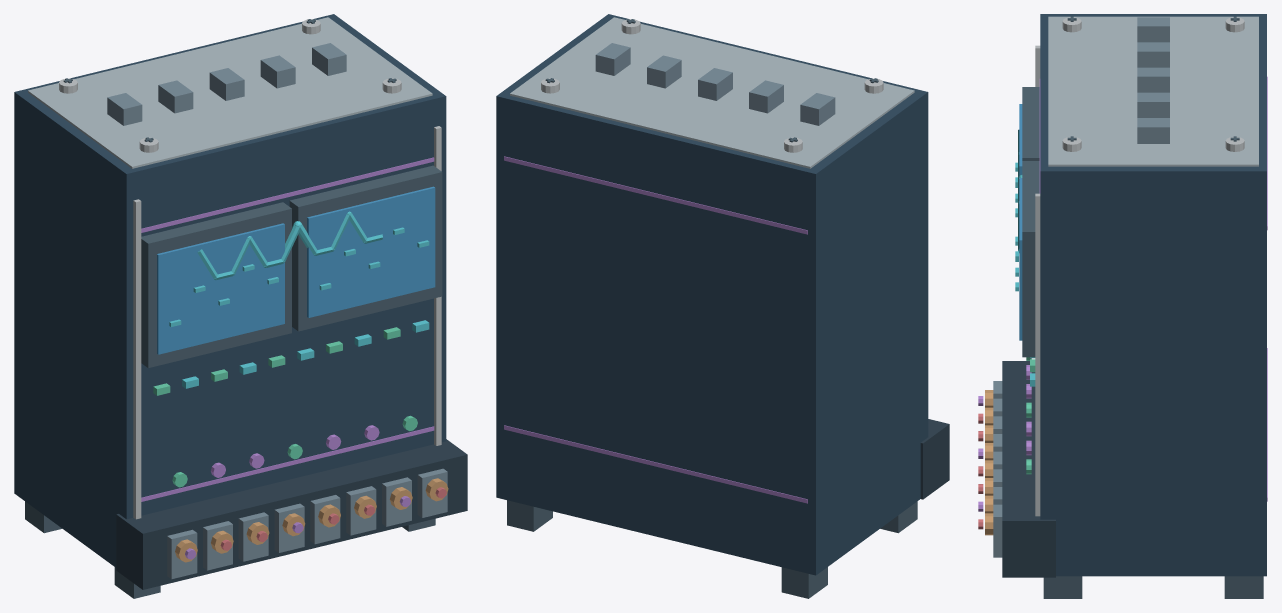
Rendered from 56_L76_PlatingWaveformProcessController.glb.
The picture shows the model from 3 angles, left to right: view 1: azimuth 30°, elevation 25°; view 2: azimuth 150°, elevation 25°; view 3: azimuth 270°, elevation 25°; orthographic projection.
Parts seen in each view (by area): view 1: PlatingWaveformProcessController_Node_0000, PlatingWaveformProcessController_Node_0007, PlatingWaveformProcessController_Node_0049, PlatingWaveformProcessController_Node_0032, PlatingWaveformProcessController_Node_0025, PlatingWaveformProcessController_Node_0024, PlatingWaveformProcessController_Node_0031, PlatingWaveformProcessController_Node_0005, PlatingWaveformProcessController_Node_0006, PlatingWaveformProcessController_Node_0021, PlatingWaveformProcessController_Node_0023, PlatingWaveformProcessController_Node_0071 (+12 smaller); view 2: PlatingWaveformProcessController_Node_0000, PlatingWaveformProcessController_Node_0007, PlatingWaveformProcessController_Node_0049, PlatingWaveformProcessController_Node_0020, PlatingWaveformProcessController_Node_0022, PlatingWaveformProcessController_Node_0045, PlatingWaveformProcessController_Node_0047, PlatingWaveformProcessController_Node_0084, PlatingWaveformProcessController_Node_0088, PlatingWaveformProcessController_Node_0085, PlatingWaveformProcessController_Node_0087, PlatingWaveformProcessController_Node_0086; view 3: PlatingWaveformProcessController_Node_0000, PlatingWaveformProcessController_Node_0007, PlatingWaveformProcessController_Node_0049, PlatingWaveformProcessController_Node_0031, PlatingWaveformProcessController_Node_0006, PlatingWaveformProcessController_Node_0024, PlatingWaveformProcessController_Node_0047, PlatingWaveformProcessController_Node_0048, PlatingWaveformProcessController_Node_0084, PlatingWaveformProcessController_Node_0085, PlatingWaveformProcessController_Node_0086, PlatingWaveformProcessController_Node_0087 (+3 smaller).
Boxes of the visible parts, x1,y1,x2,y2 form: PlatingWaveformProcessController_Node_0000: (14, 14, 446, 567); PlatingWaveformProcessController_Node_0007: (28, 17, 432, 168); PlatingWaveformProcessController_Node_0049: (116, 439, 467, 589); PlatingWaveformProcessController_Node_0032: (307, 186, 435, 317); PlatingWaveformProcessController_Node_0025: (157, 223, 284, 354); PlatingWaveformProcessController_Node_0024: (141, 202, 291, 368); PlatingWaveformProcessController_Node_0031: (289, 165, 442, 331); PlatingWaveformProcessController_Node_0005: (133, 199, 141, 519); PlatingWaveformProcessController_Node_0006: (434, 126, 441, 445); PlatingWaveformProcessController_Node_0021: (141, 426, 434, 501); PlatingWaveformProcessController_Node_0023: (141, 157, 434, 232); PlatingWaveformProcessController_Node_0071: (417, 468, 447, 517); PlatingWaveformProcessController_Node_0000: (496, 14, 928, 575); PlatingWaveformProcessController_Node_0007: (510, 17, 914, 168); PlatingWaveformProcessController_Node_0049: (920, 419, 949, 499); PlatingWaveformProcessController_Node_0020: (504, 425, 807, 503); PlatingWaveformProcessController_Node_0022: (504, 156, 807, 234); PlatingWaveformProcessController_Node_0045: (781, 567, 827, 598); PlatingWaveformProcessController_Node_0047: (507, 500, 552, 531); PlatingWaveformProcessController_Node_0084: (800, 93, 835, 125); PlatingWaveformProcessController_Node_0088: (595, 43, 630, 75); PlatingWaveformProcessController_Node_0085: (749, 80, 783, 113); PlatingWaveformProcessController_Node_0087: (647, 55, 681, 88); PlatingWaveformProcessController_Node_0086: (698, 68, 732, 100); PlatingWaveformProcessController_Node_0000: (1040, 14, 1266, 576); PlatingWaveformProcessController_Node_0007: (1048, 16, 1258, 166); PlatingWaveformProcessController_Node_0049: (1002, 361, 1055, 577); PlatingWaveformProcessController_Node_0031: (1022, 161, 1039, 357); PlatingWaveformProcessController_Node_0006: (1035, 193, 1040, 516); PlatingWaveformProcessController_Node_0024: (1022, 87, 1039, 160); PlatingWaveformProcessController_Node_0047: (1224, 576, 1263, 598); PlatingWaveformProcessController_Node_0048: (1043, 576, 1082, 598); PlatingWaveformProcessController_Node_0084: (1137, 17, 1169, 42); PlatingWaveformProcessController_Node_0085: (1137, 42, 1169, 67); PlatingWaveformProcessController_Node_0086: (1137, 67, 1169, 92); PlatingWaveformProcessController_Node_0087: (1137, 92, 1169, 117).
Size of the model in its own units: 1.27 by 1.67 by 0.9704.
